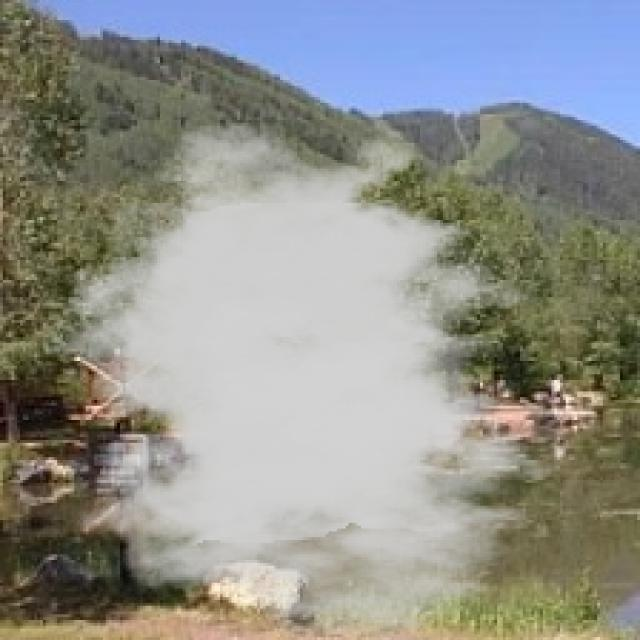smoke: (37, 120, 589, 637)
